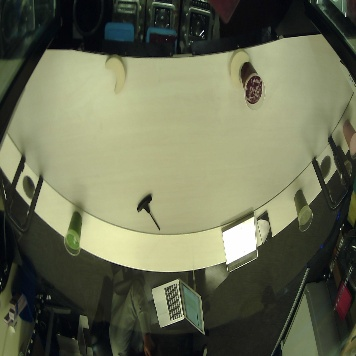full_cup: (239, 59, 277, 111), (60, 206, 86, 266), (332, 137, 354, 190), (293, 185, 312, 237), (337, 115, 356, 154)
puck: (224, 47, 253, 89), (105, 51, 129, 98)
